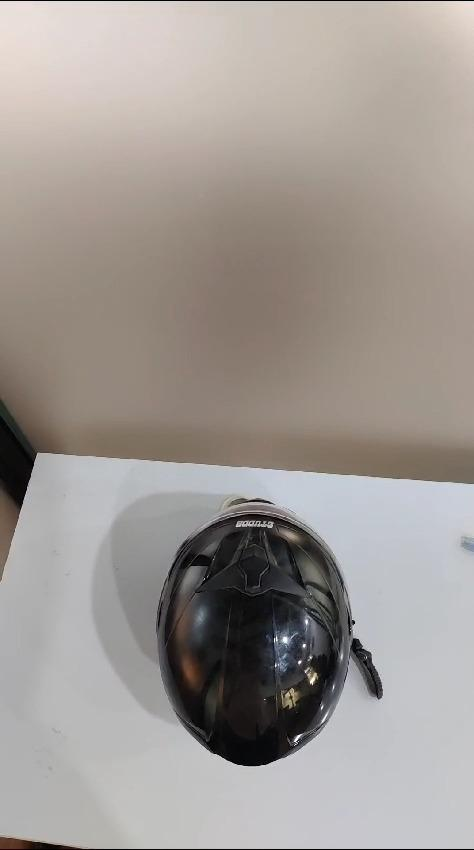Helmet: (130, 490, 354, 785)
